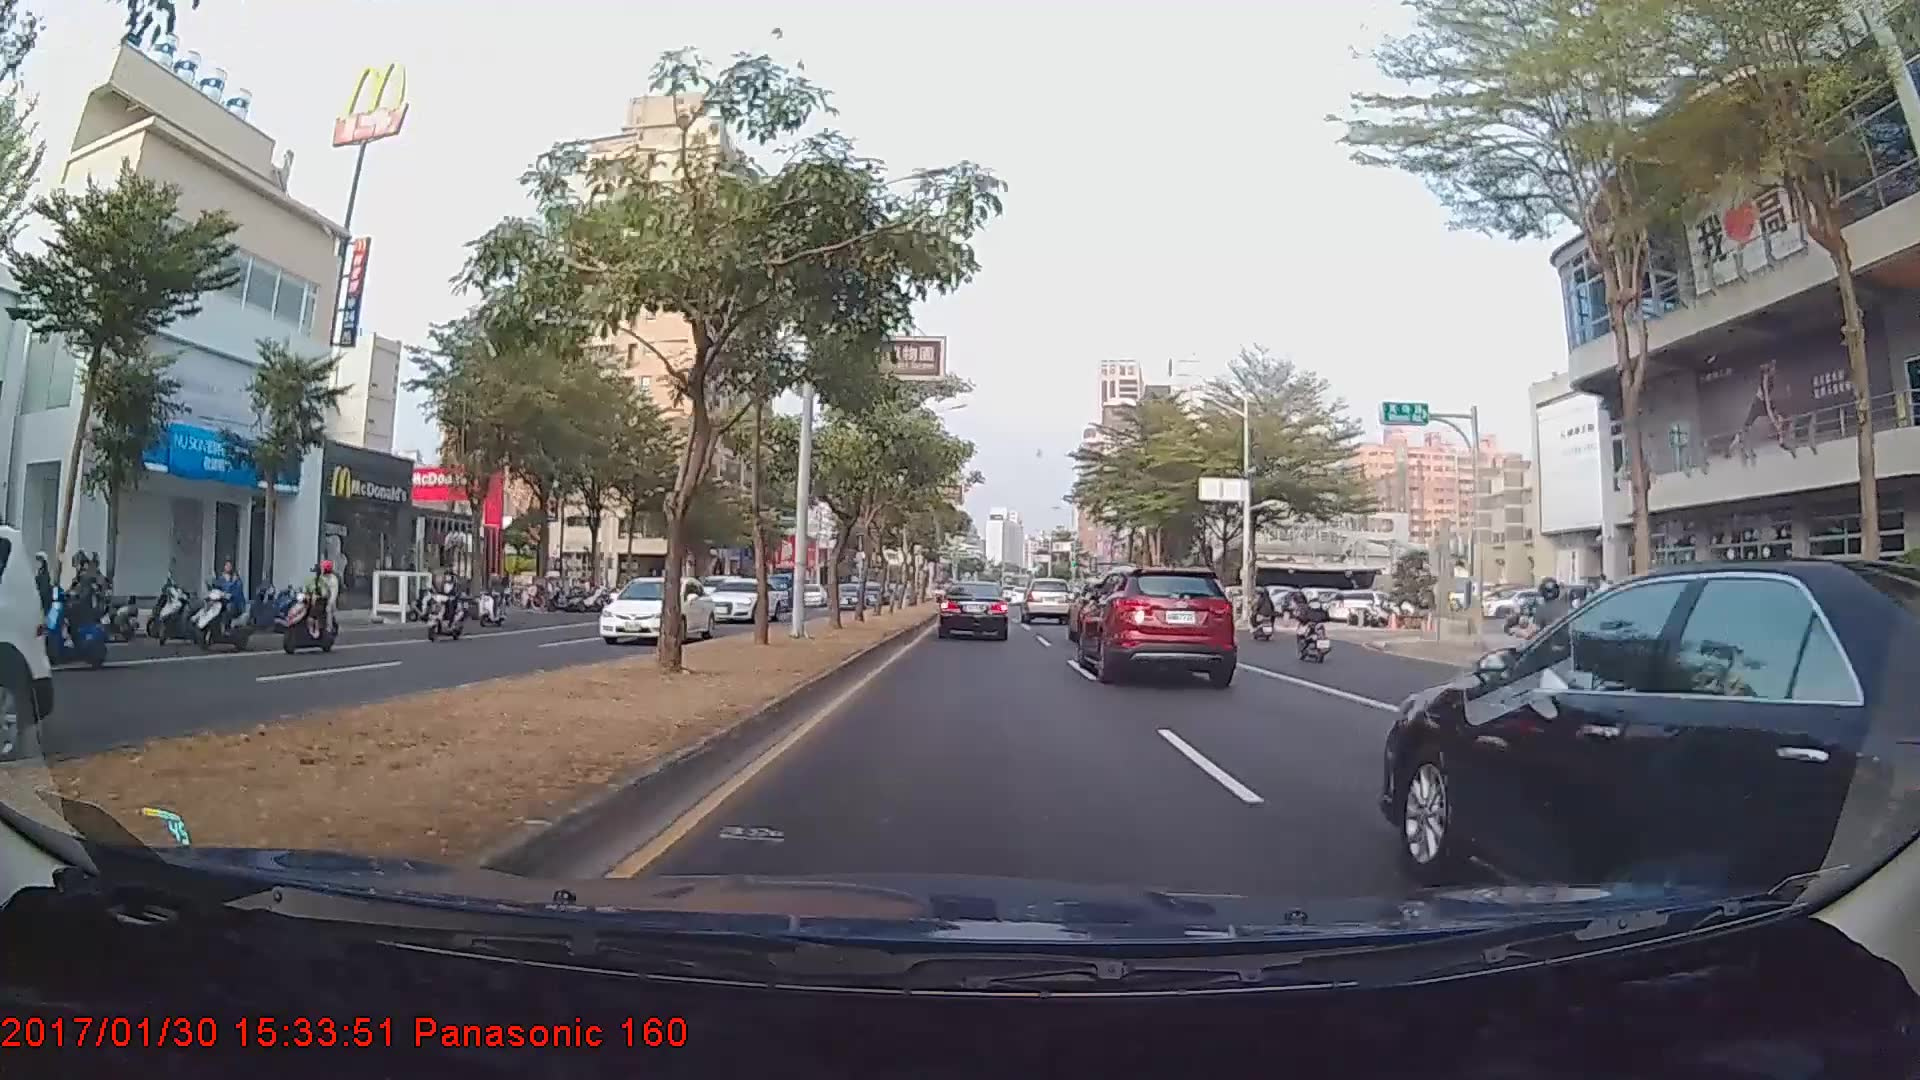rider: (1492, 572, 1609, 733), (183, 551, 263, 652), (274, 558, 342, 654), (1294, 586, 1337, 668)
vehicle: (1401, 554, 1919, 927), (1077, 565, 1235, 682), (595, 574, 715, 644), (938, 580, 1008, 641), (704, 573, 780, 622), (1019, 576, 1072, 625)
